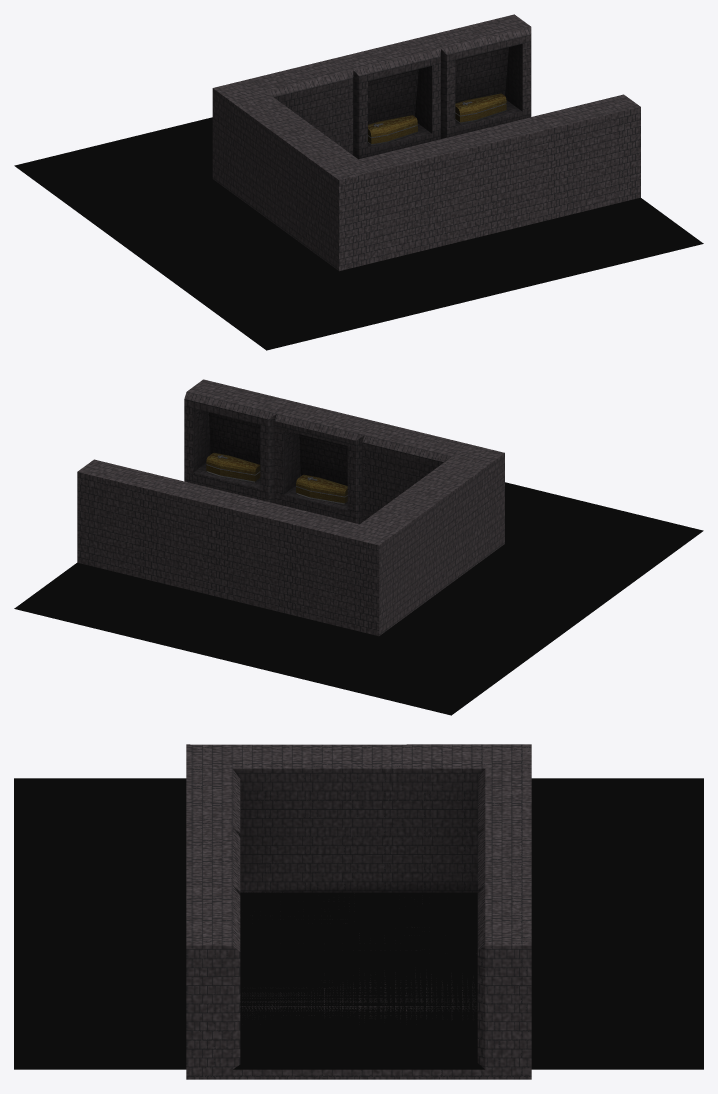
File: Irb_DeadEnd.obj
The picture shows the model from 3 angles, top to bottom: view 1: azimuth 30°, elevation 25°; view 2: azimuth 150°, elevation 25°; view 3: azimuth 270°, elevation 25°; orthographic projection. The views are drawn at different scales.
Parts seen in each view (by area): view 1: Crypt, Reference, Coffin009, Coffin008; view 2: Crypt, Reference, Coffin010, Coffin011; view 3: Reference, Crypt.
Boxes of the visible parts, <box> form: Crypt: <box>212,14,640,271</box>; Reference: <box>14,117,703,350</box>; Coffin009: <box>455,93,506,123</box>; Coffin008: <box>368,115,417,145</box>; Crypt: <box>77,379,504,636</box>; Reference: <box>14,482,703,715</box>; Coffin010: <box>206,452,260,482</box>; Coffin011: <box>296,474,347,504</box>; Reference: <box>14,778,703,1069</box>; Crypt: <box>186,744,531,1079</box>.
Bounding box in the file's own units: 1024 × 219 × 1024.
3 materials, 2 textured.
